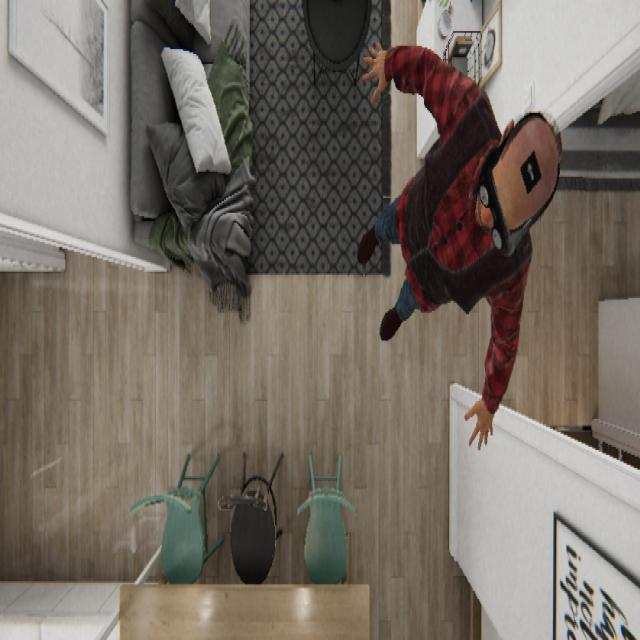Human: (356, 38, 562, 450)
UnityLogo: (518, 146, 542, 194)
